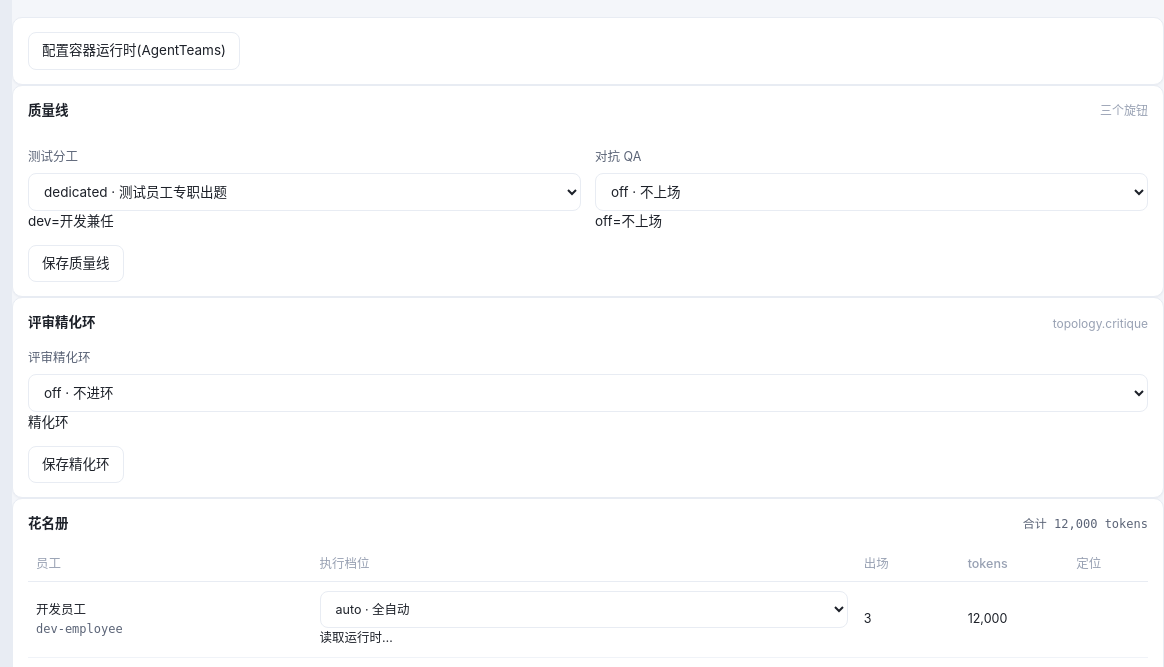
Test: 员工管理页 › asks who the work belongs to before moving anyone to manual
Select "manual · 整步交给人" in the dropdown named "开发员工的执行档位" at (584, 609), box [320, 591, 848, 628]
(page scrolled)
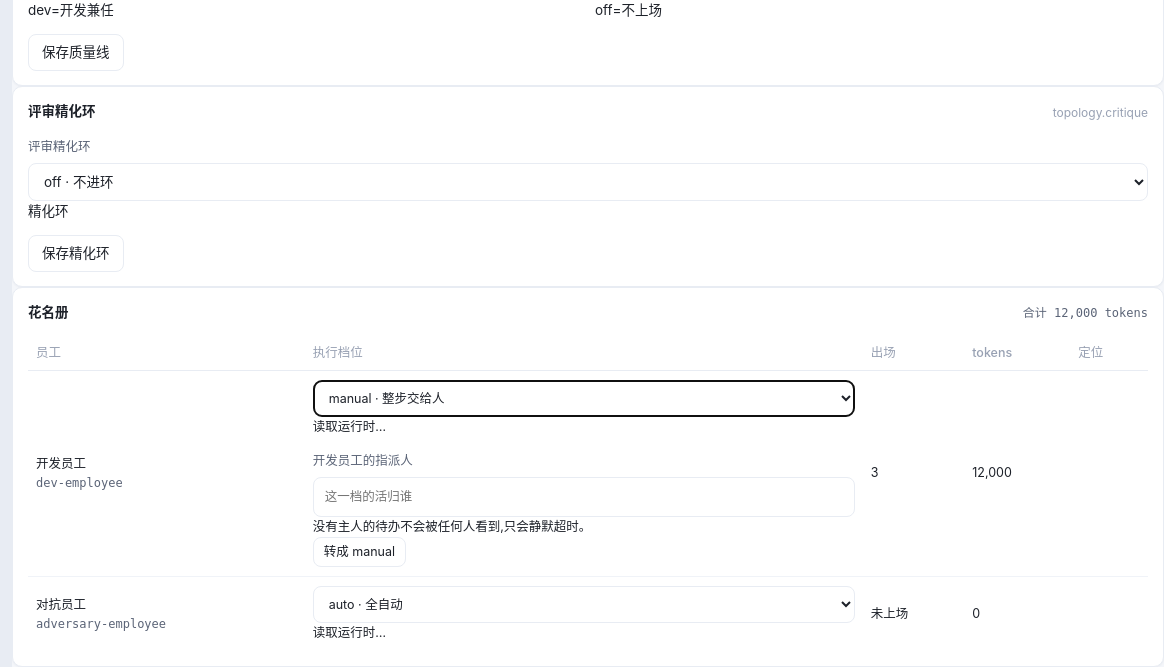
Result: the field labelled "开发员工的指派人" is shown at [313, 477, 855, 517]
Result: the button "转成 manual" is disabled at [313, 537, 406, 567]
